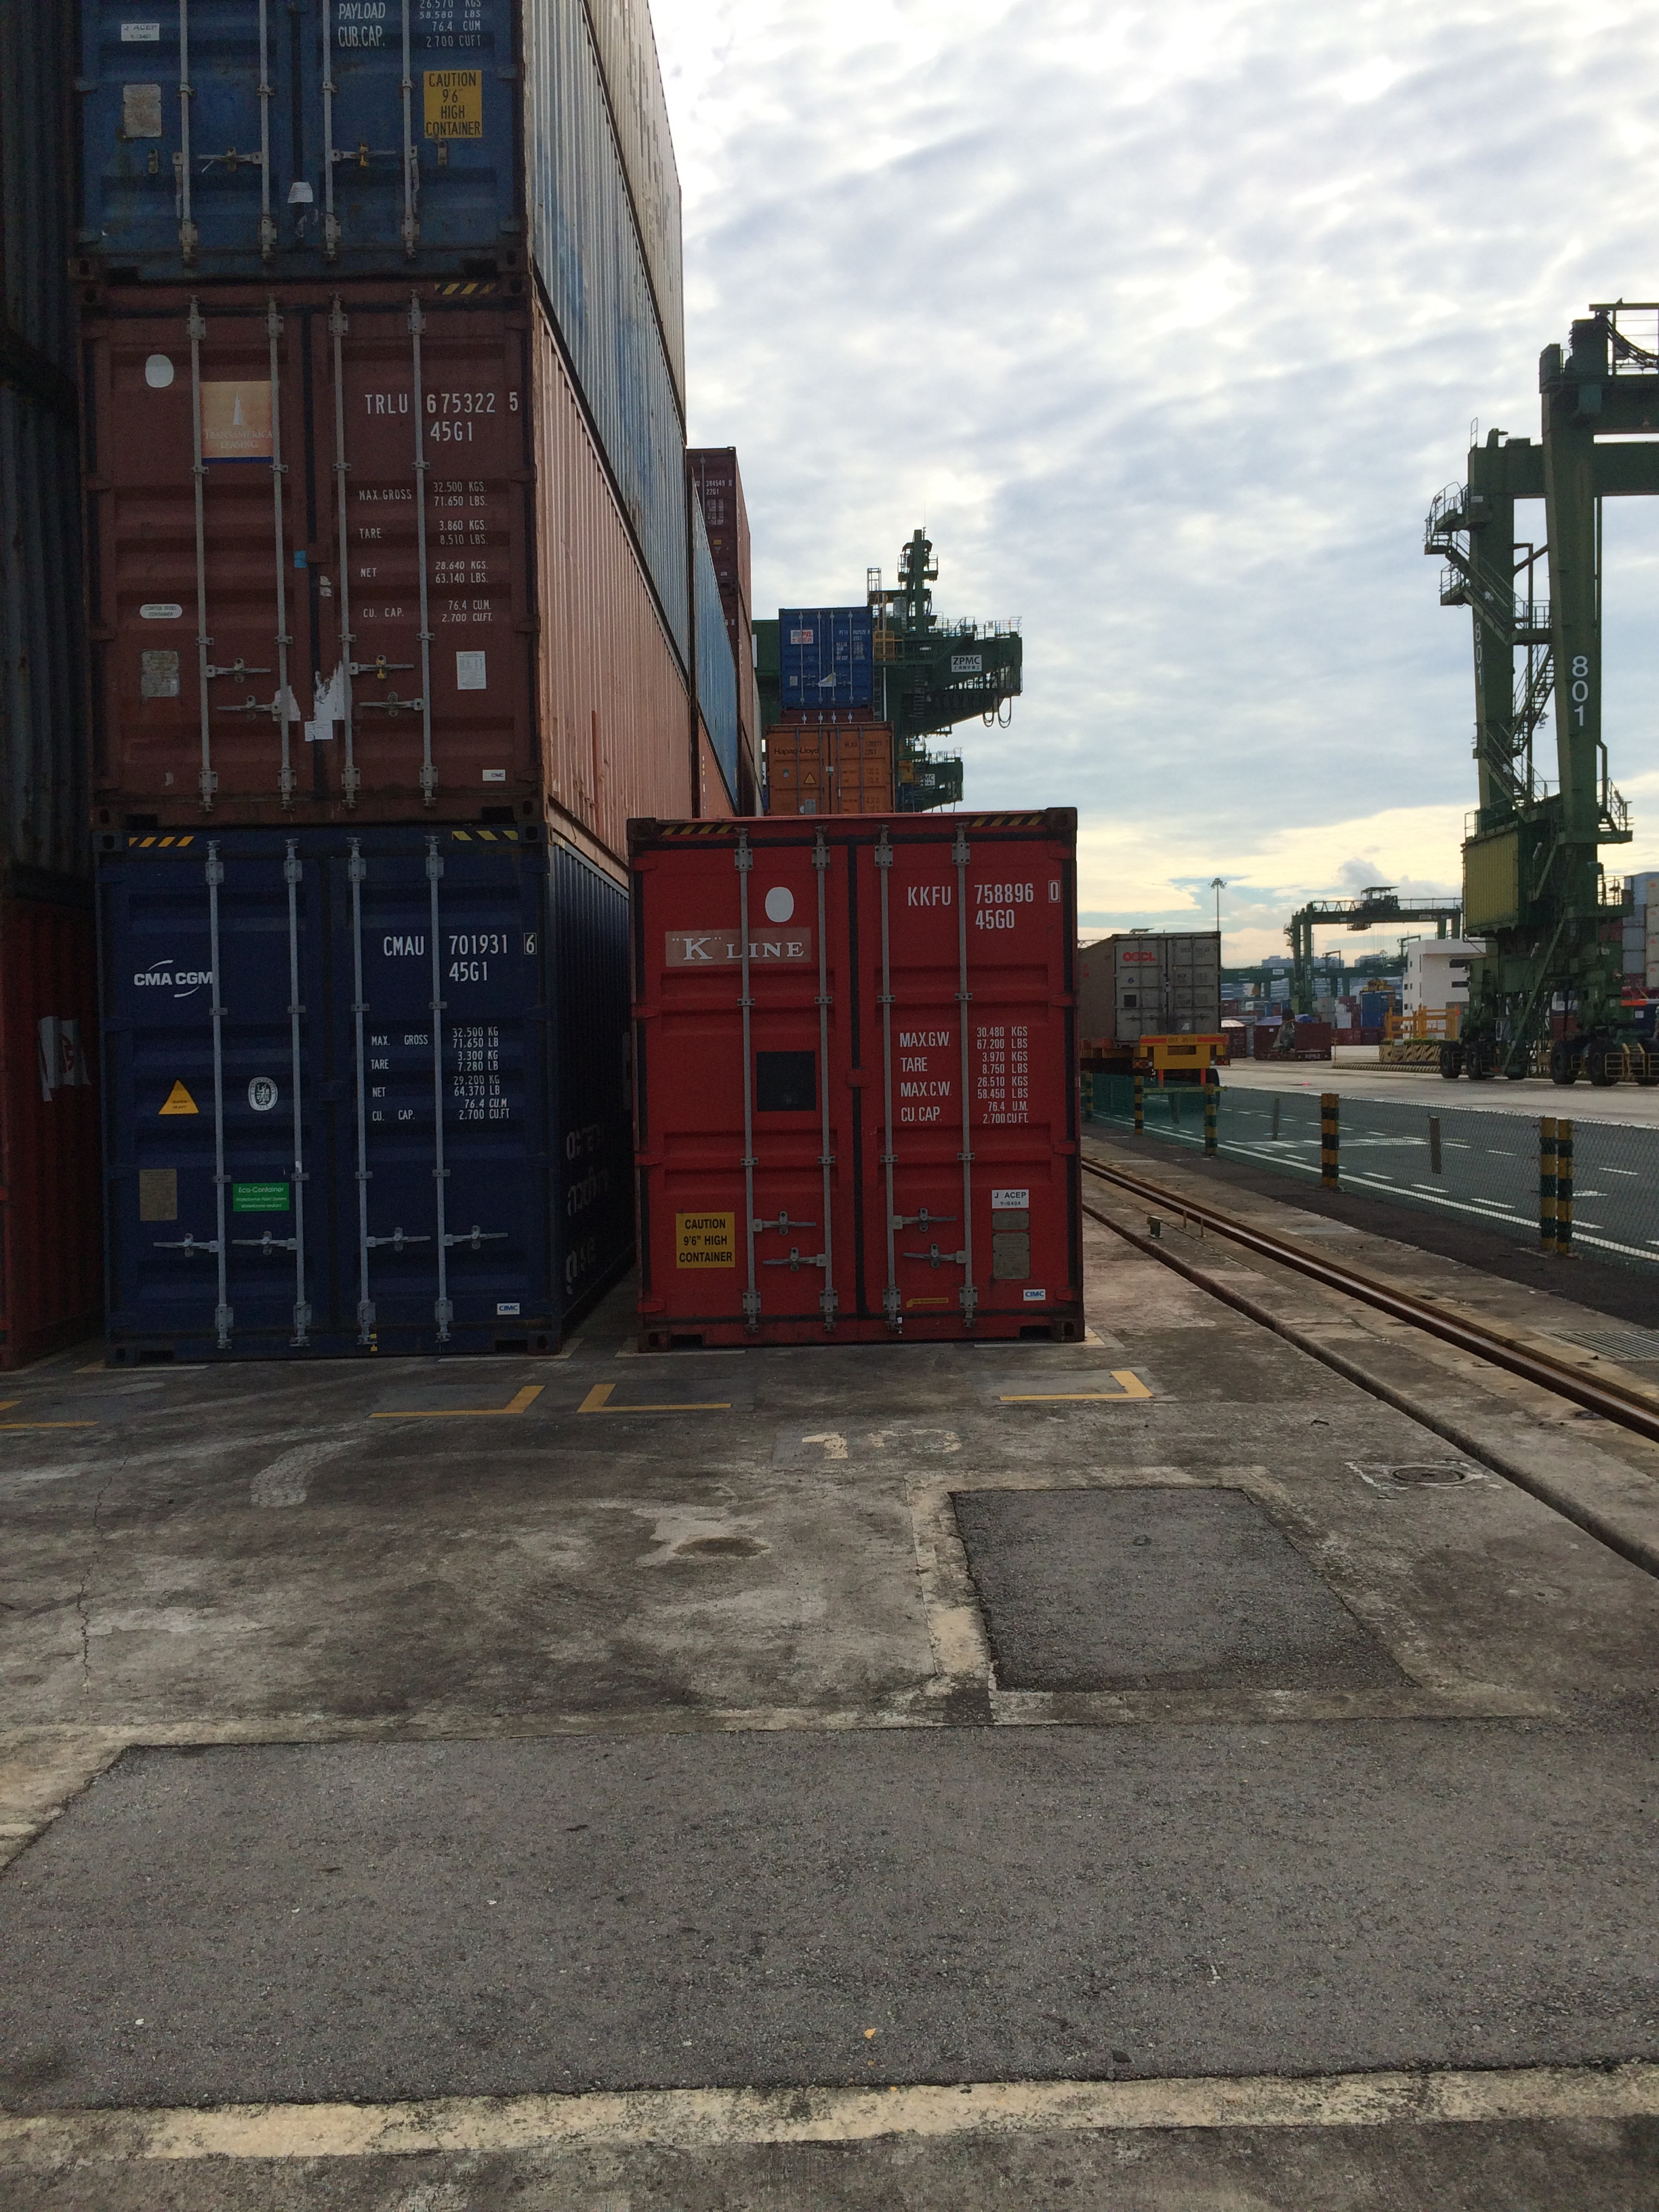container_door: (622, 805, 1101, 1350), (58, 282, 537, 827), (71, 822, 549, 1367)
